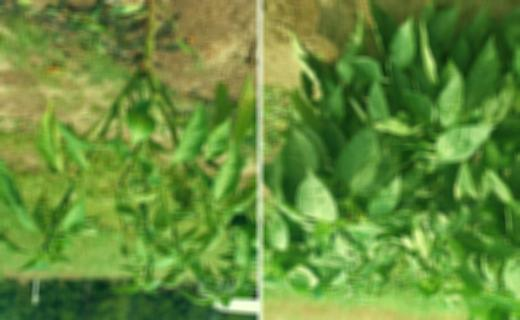Tomato leaf bacterial spot: (446, 37, 500, 130), (329, 128, 382, 202), (434, 120, 498, 164), (295, 166, 339, 227), (173, 98, 213, 165), (225, 73, 257, 155), (34, 94, 64, 176), (212, 141, 246, 212), (366, 167, 405, 219), (389, 15, 417, 75), (364, 75, 393, 132), (439, 70, 464, 129), (127, 97, 158, 144), (350, 52, 390, 87), (58, 196, 91, 236), (455, 163, 481, 203), (149, 252, 180, 266)
